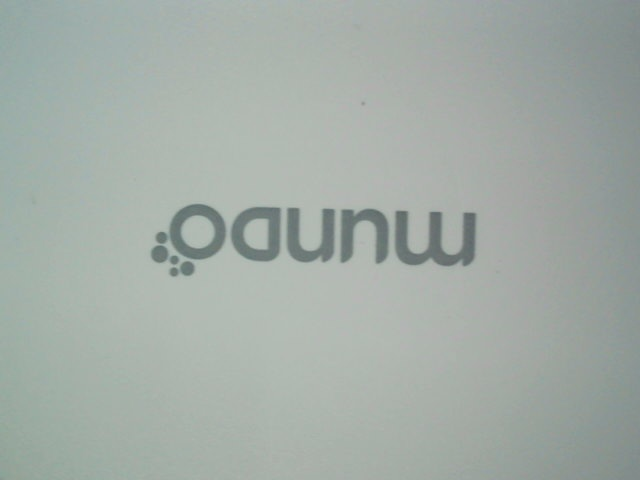BI_MUNDO: (146, 190, 493, 286)
